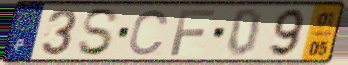0: (226, 7, 264, 59)
3: (39, 8, 79, 58)
9: (267, 7, 307, 59)
C: (126, 8, 171, 57)
F: (168, 8, 218, 57)
S: (75, 7, 121, 58)
